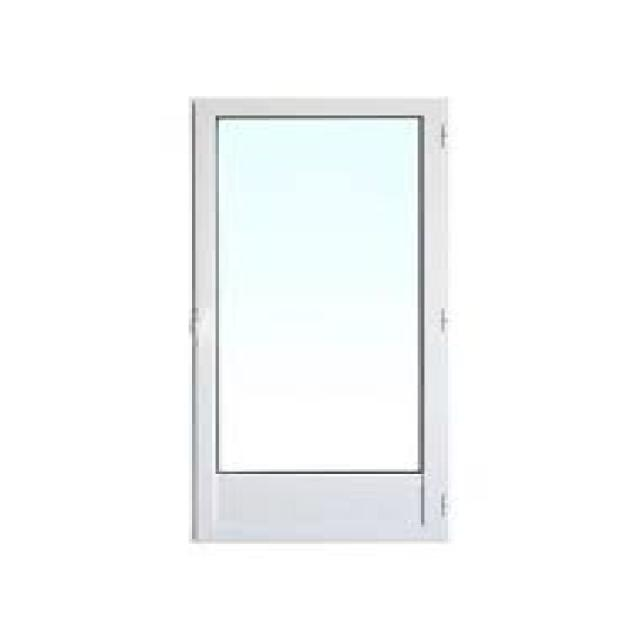door: (190, 96, 450, 542)
